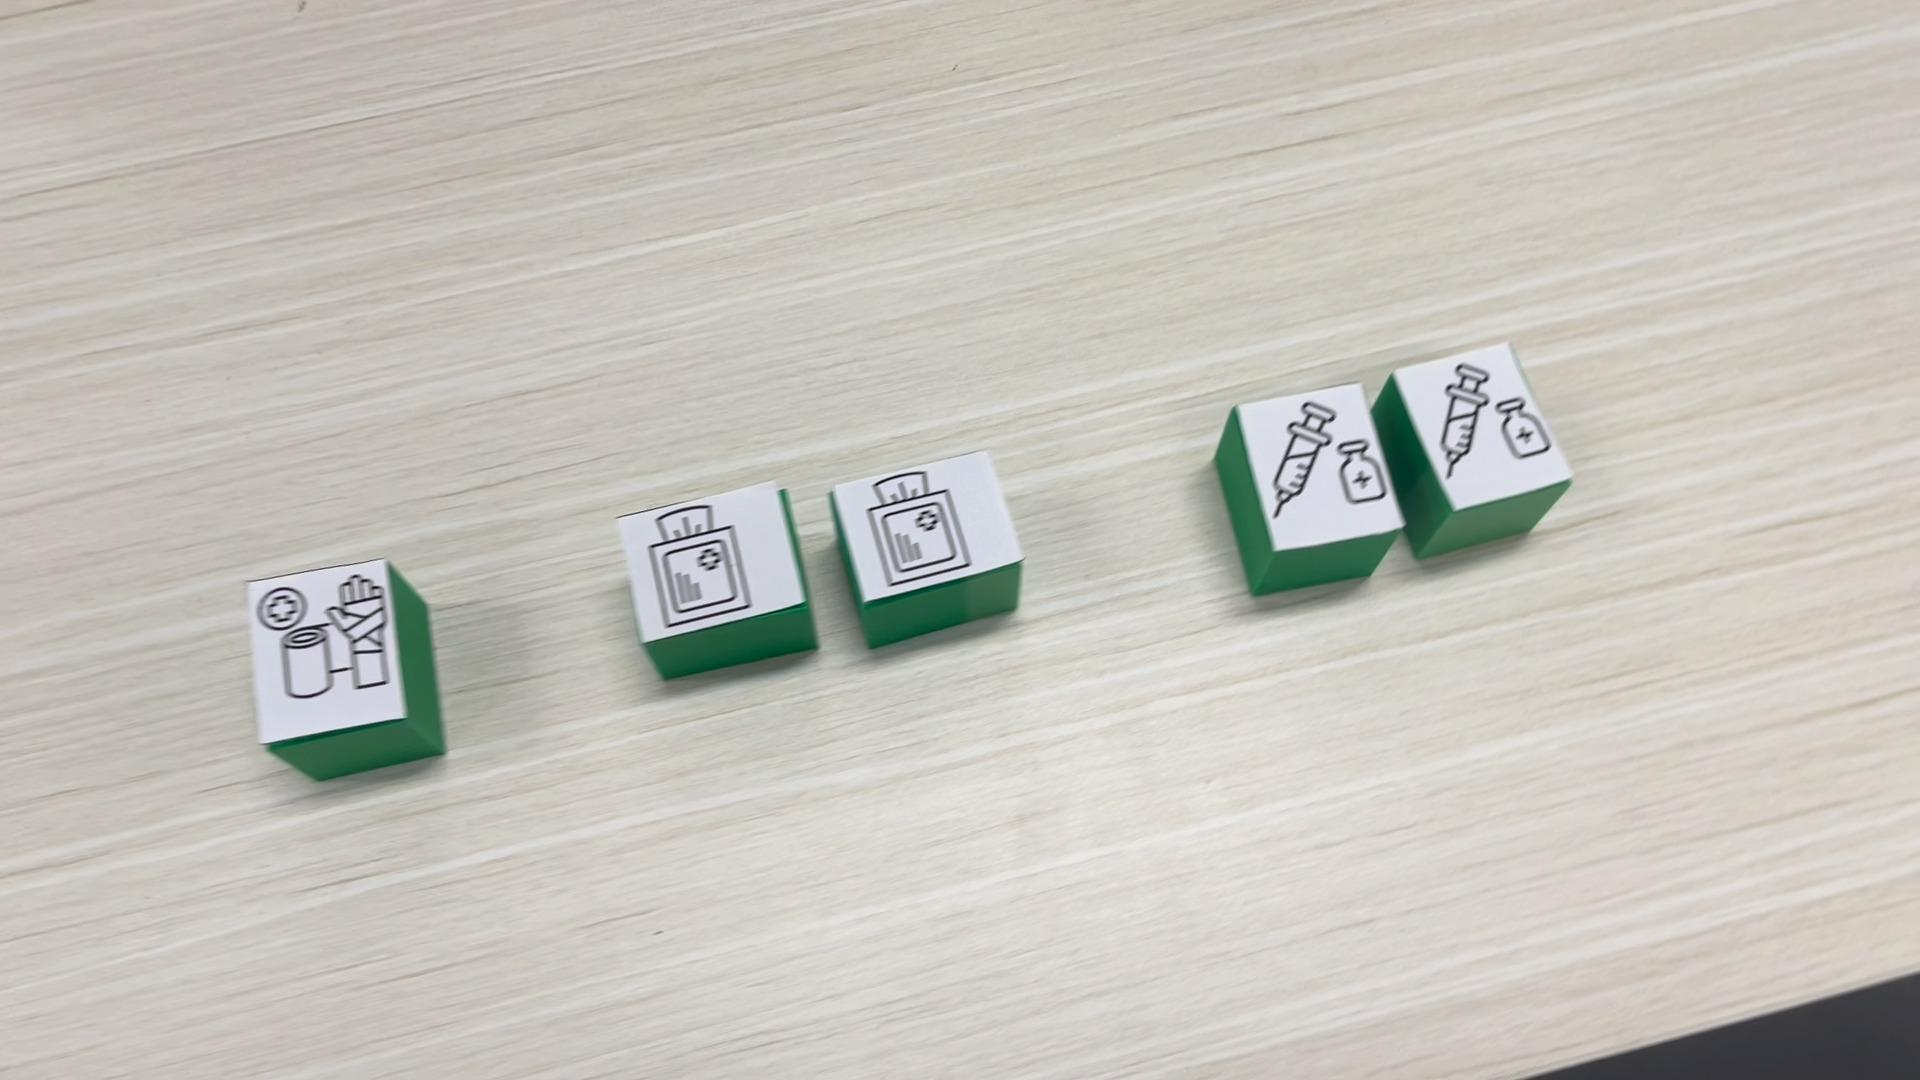Bandages: (245, 556, 446, 782)
Gauze: (811, 447, 1026, 649), (615, 480, 818, 680)
antiseptic cream: (1371, 339, 1573, 560), (1212, 378, 1407, 597)
